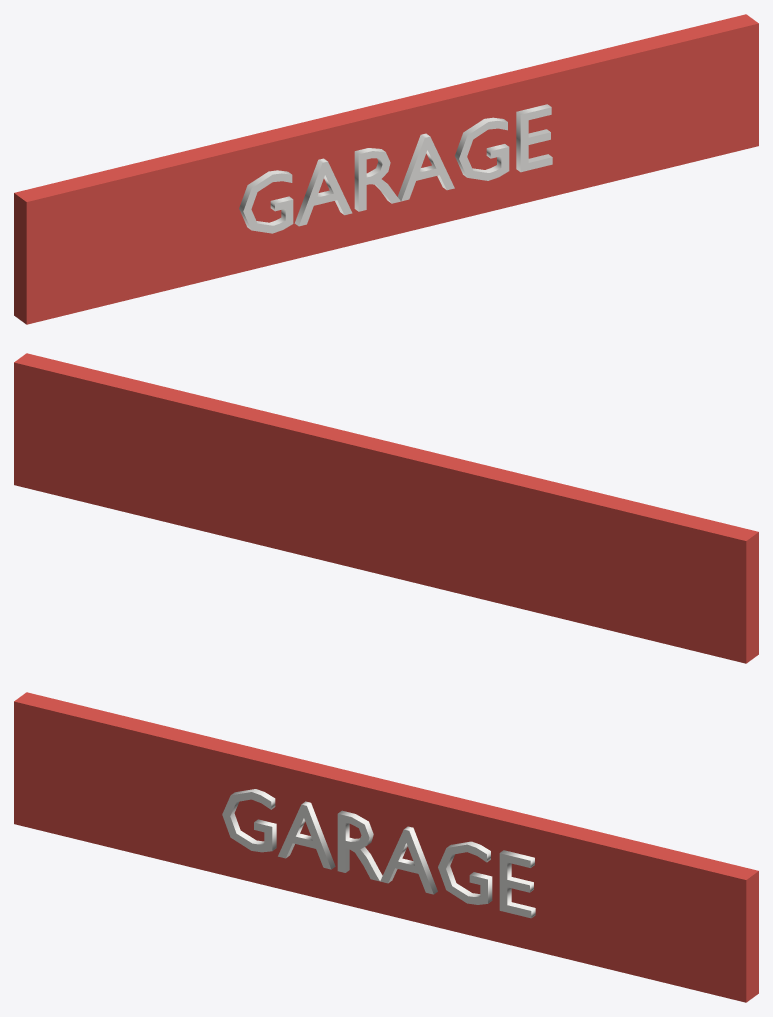
The model's file is workshop_sign.glb.
3 views of the same model, one above another, from view 1: azimuth 30°, elevation 25°; view 2: azimuth 150°, elevation 25°; view 3: azimuth 330°, elevation 25° (orthographic).
Visible parts, largest first — view 1: workshop_sign; view 2: workshop_sign; view 3: workshop_sign.
Part boxes in pixels (<box>): workshop_sign: <box>14,14,758,324</box>; workshop_sign: <box>14,353,758,663</box>; workshop_sign: <box>14,692,758,1002</box>.
Size of the model in its own units: 2 by 0.32 by 0.08.
